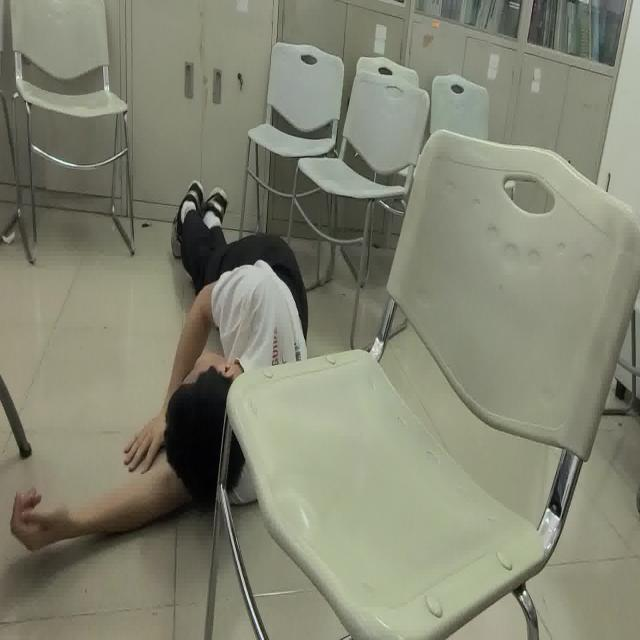fall: (13, 175, 309, 558)
